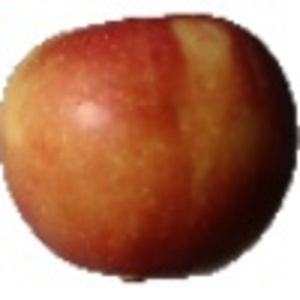maçã braeburn: (1, 11, 300, 291)
